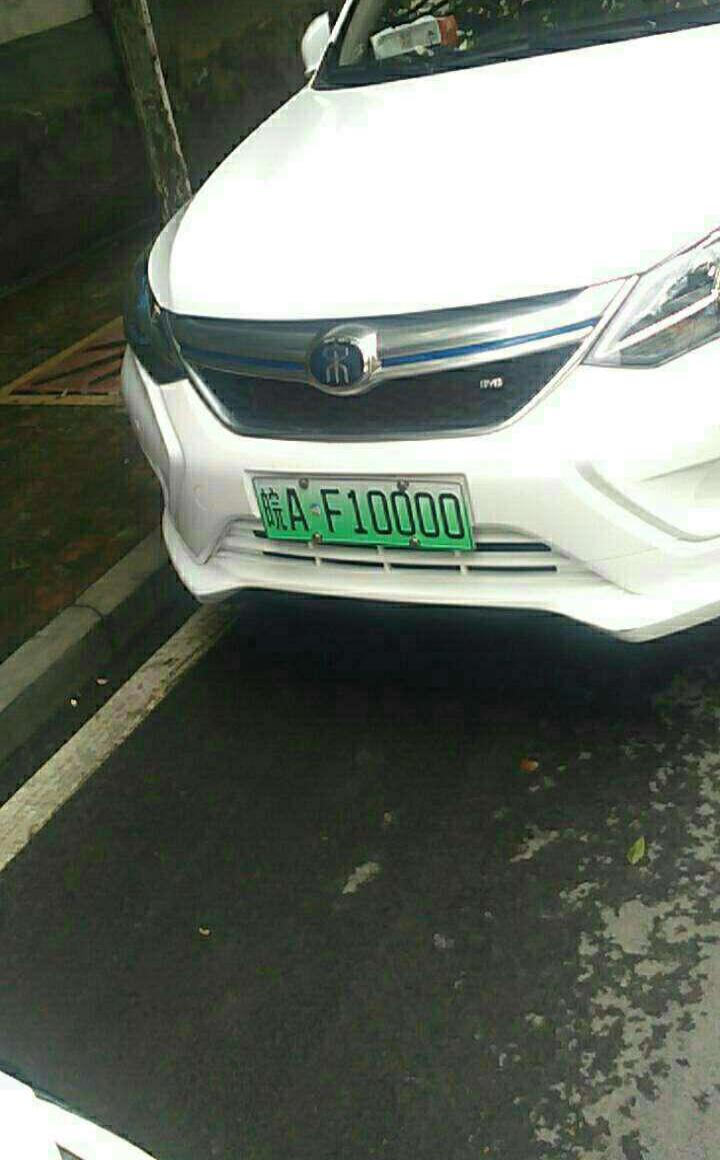car_green: (249, 475, 465, 551)
